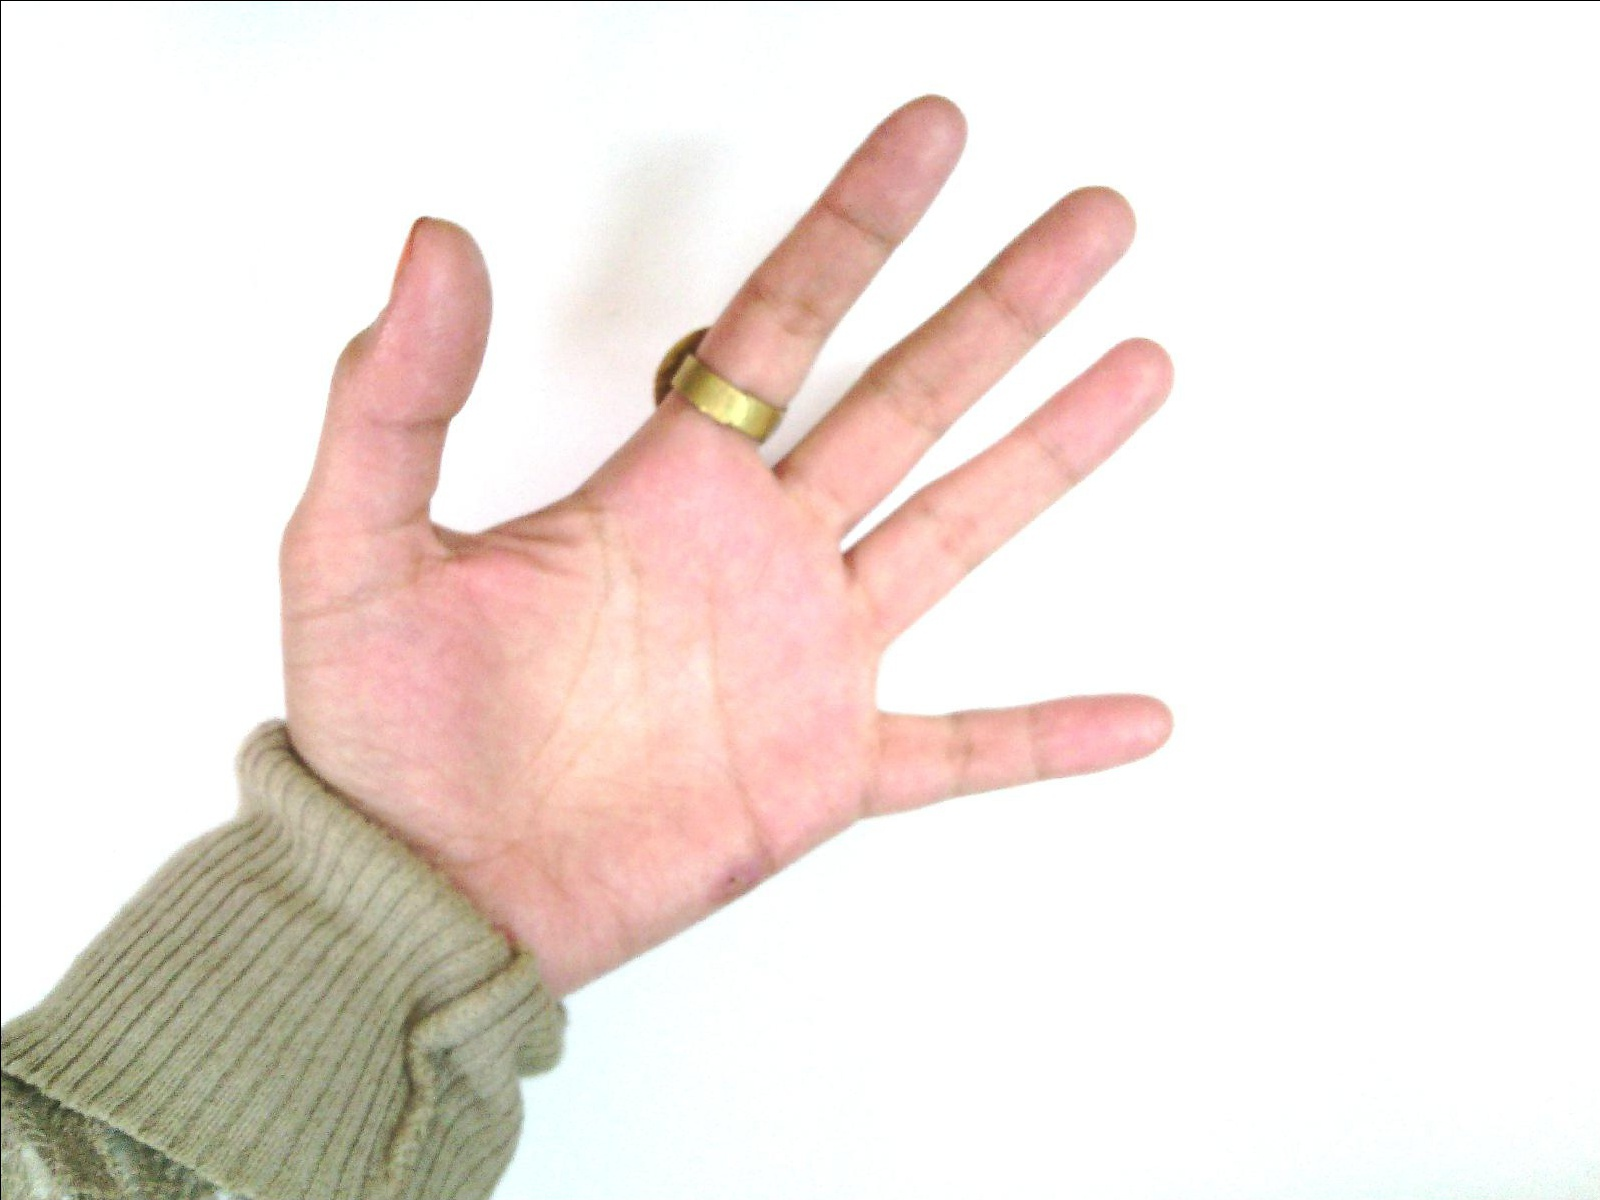5-hand: (289, 92, 1170, 963)
